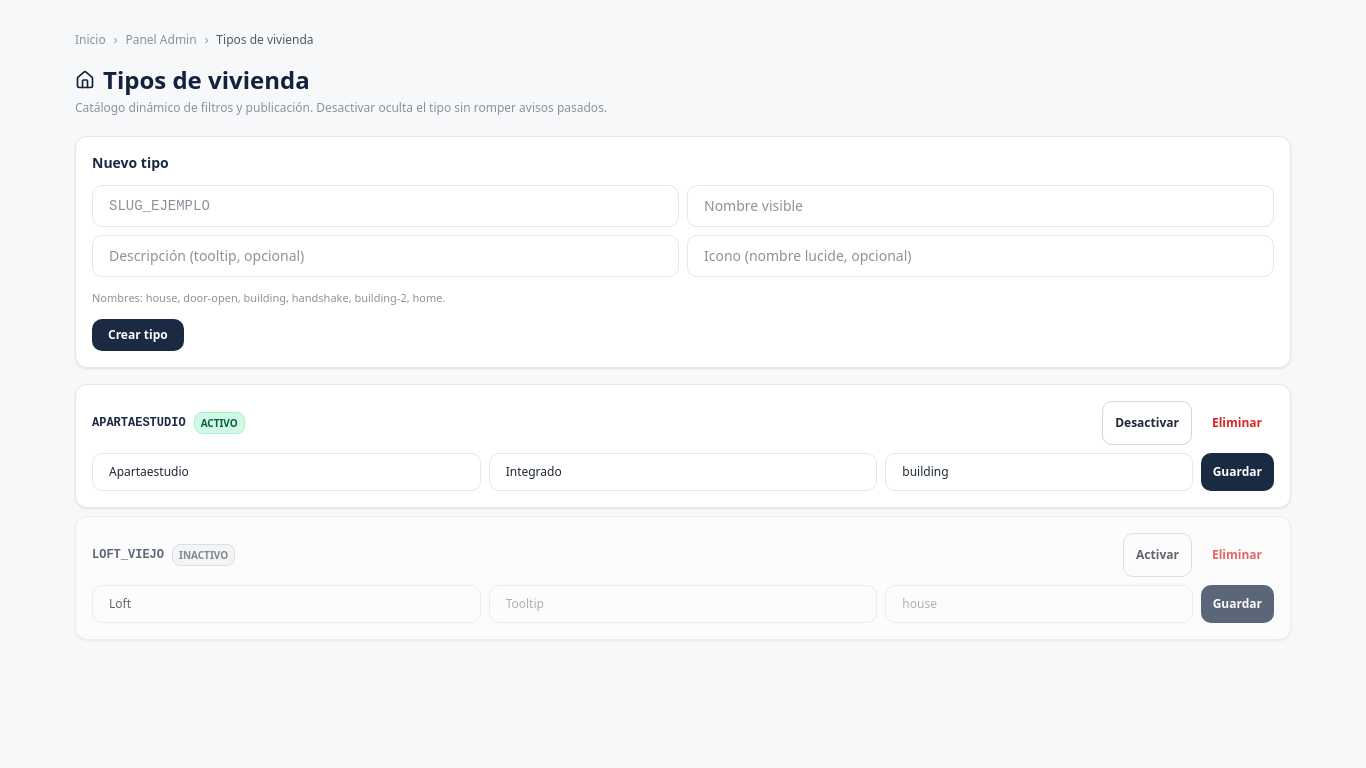
Test case: AdminTipos (R10 disable lógico) › eliminar con 409 sugiere desactivar (FK RESTRICT)
Click the button with aria-label "Eliminar APARTAESTUDIO" at {"x": 1237, "y": 423}, box [1200,401,1274,445]
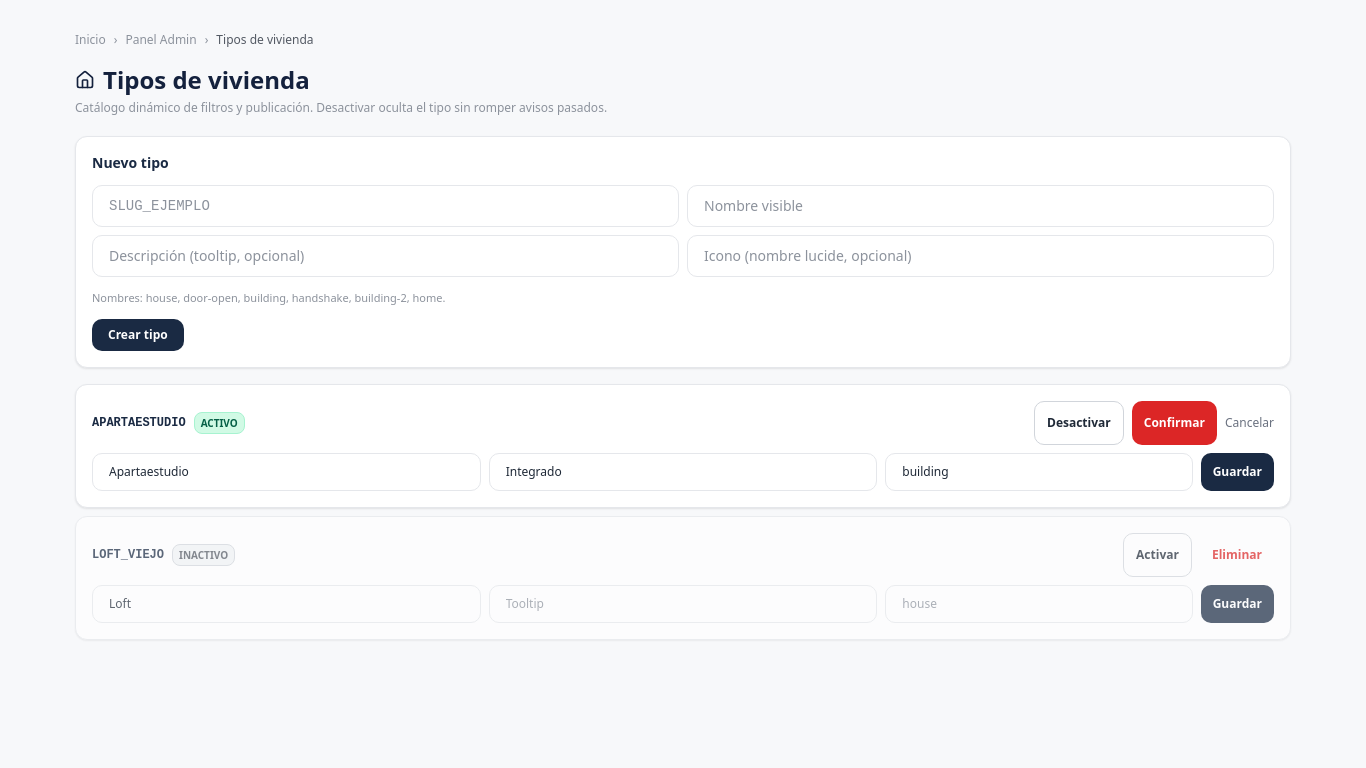
Click the button with aria-label "Confirmar eliminar APARTAESTUDIO" at {"x": 1174, "y": 423}, box [1132,401,1217,445]
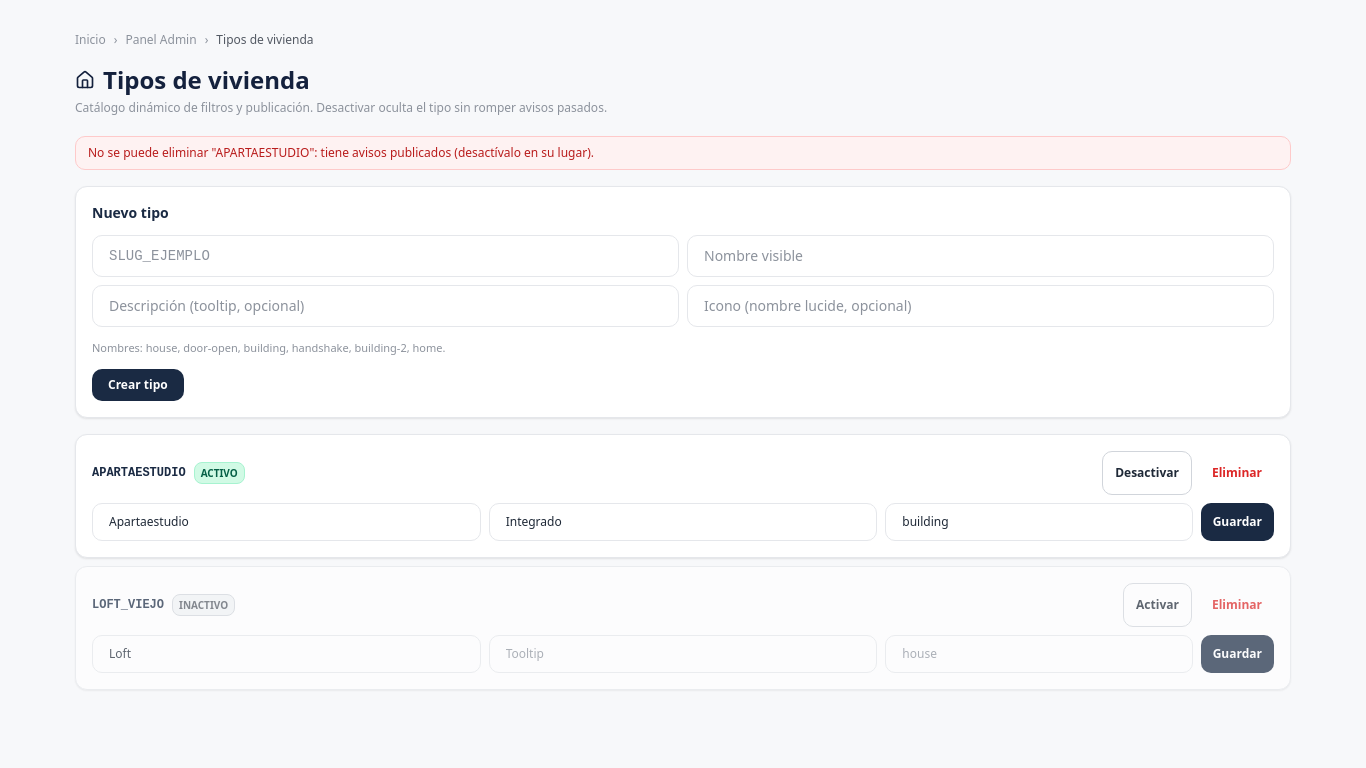
Check: the message shows "desactívalo", box [88,144,594,161]
